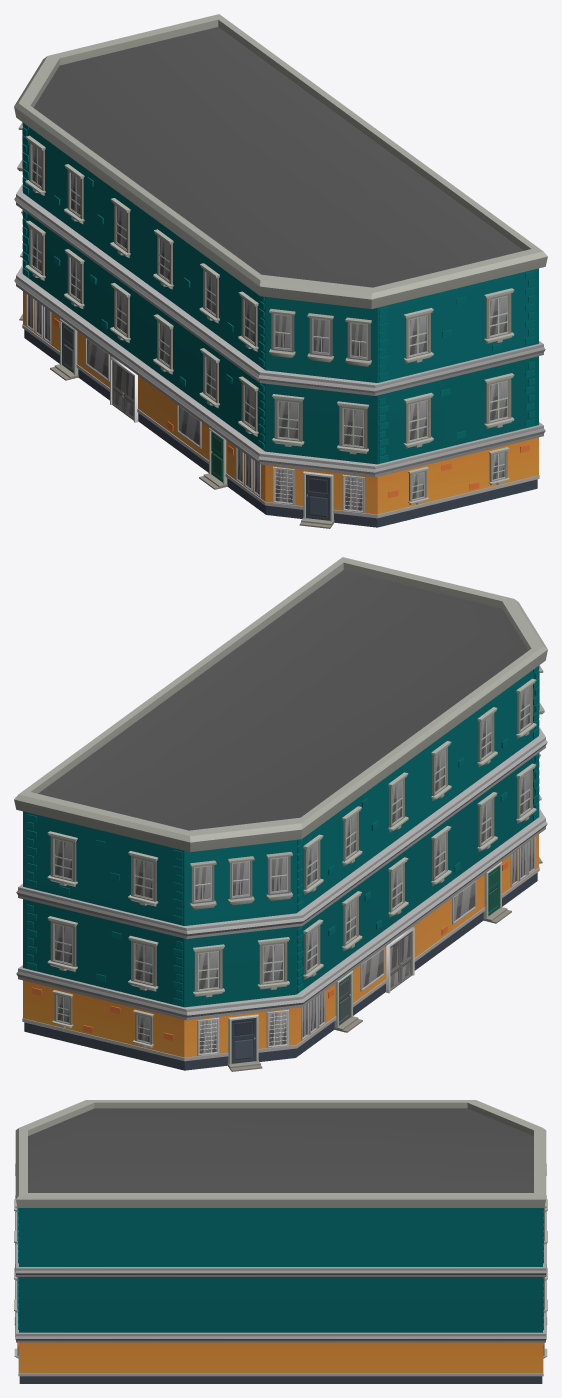
Rendered from Building_25_7_G.fbx.
The picture shows the model from 3 angles, top to bottom: view 1: azimuth 30°, elevation 25°; view 2: azimuth 150°, elevation 25°; view 3: azimuth 270°, elevation 25°; orthographic projection. The views are drawn at different scales.
Parts seen in each view (by area): view 1: Building_25_7_G; view 2: Building_25_7_G; view 3: Building_25_7_G.
Boxes of the visible parts, x1,y1,x2,y2 form: Building_25_7_G: (14, 14, 547, 528); Building_25_7_G: (14, 557, 547, 1071); Building_25_7_G: (14, 1100, 547, 1383).
Bounding box in the file's own units: 1291 × 1159 × 2941.
